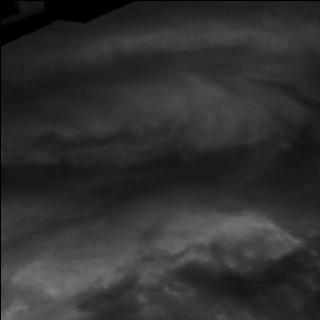Nimbostratus: (0, 38, 320, 320)
